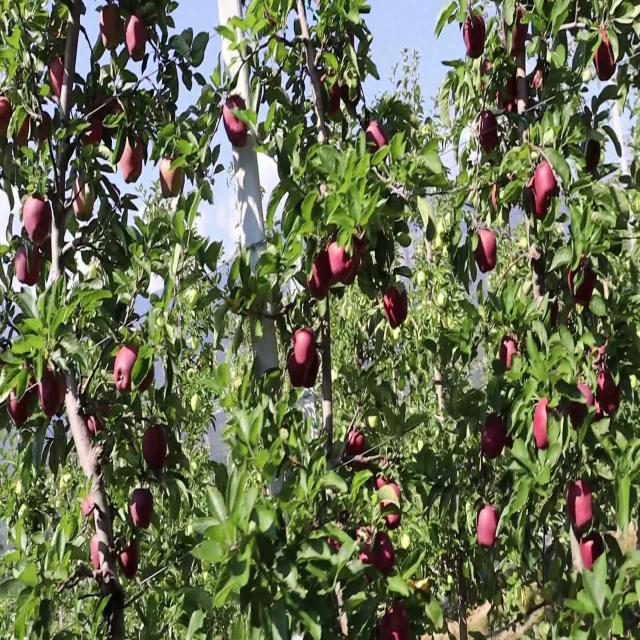apple: (24, 191, 53, 247), (40, 362, 68, 420), (532, 163, 559, 220), (568, 255, 597, 308), (328, 234, 355, 283), (116, 341, 140, 396), (224, 92, 249, 144), (72, 177, 97, 226), (120, 135, 144, 185), (596, 28, 617, 84), (568, 483, 593, 530), (464, 14, 488, 62), (384, 284, 408, 331), (100, 7, 125, 52), (568, 383, 593, 428), (484, 412, 507, 460), (116, 348, 139, 396), (128, 14, 150, 64), (16, 248, 42, 290), (380, 604, 411, 639), (380, 483, 403, 530), (144, 426, 168, 471), (160, 156, 185, 199), (476, 504, 500, 548), (320, 71, 342, 119), (476, 227, 497, 276), (532, 398, 551, 452), (8, 383, 31, 427), (596, 369, 620, 411), (132, 490, 155, 533), (600, 369, 621, 416), (364, 120, 389, 156), (80, 113, 105, 149), (376, 533, 396, 576), (296, 327, 319, 364), (480, 113, 500, 155), (120, 540, 140, 581), (500, 334, 522, 370), (308, 270, 331, 304), (324, 78, 342, 121), (508, 21, 528, 59), (48, 56, 65, 100), (356, 526, 374, 567), (580, 540, 603, 571), (88, 405, 111, 436), (592, 334, 610, 373), (288, 355, 307, 391), (104, 99, 124, 133), (500, 78, 518, 114), (36, 113, 54, 148), (492, 177, 512, 208), (580, 540, 600, 571), (584, 142, 602, 176), (316, 248, 332, 286), (344, 85, 363, 116), (352, 227, 369, 260), (348, 426, 366, 457), (92, 533, 106, 572), (16, 113, 31, 149), (328, 526, 346, 555), (492, 177, 508, 208), (304, 362, 320, 391), (140, 369, 156, 396), (608, 391, 622, 418), (480, 63, 493, 92), (84, 490, 96, 521), (4, 99, 13, 137), (592, 405, 605, 427), (52, 14, 62, 41), (492, 184, 503, 208), (376, 476, 389, 494), (536, 71, 545, 92)
